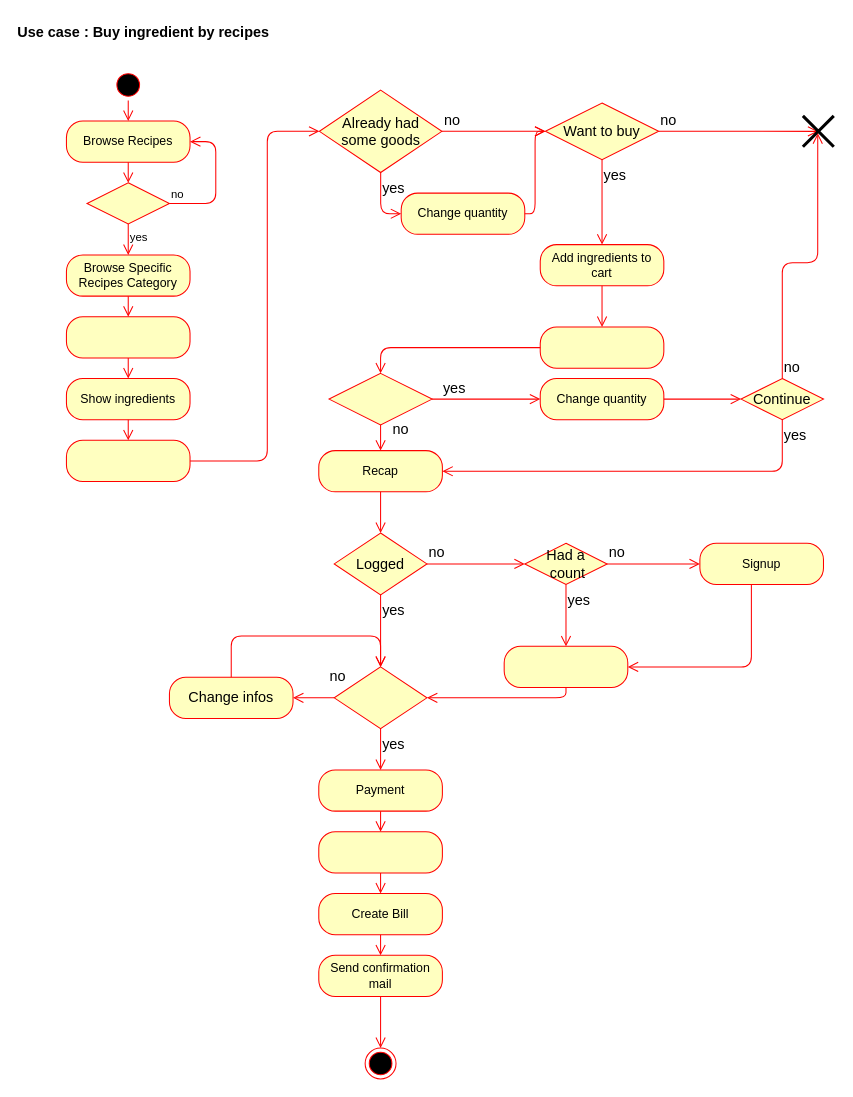
Image size: 853x1097. Some labels were removed from this diagram. Each missing label, with the centre of its shape:
Create Orders: the point at 380,852
Filter on: the point at 127,203
Go to cart: the point at 601,347
Login: the point at 565,666
Select number of person: the point at 127,460
Select one recipe: the point at 127,337
Validate infos: the point at 380,697
Want to change: the point at 380,398
